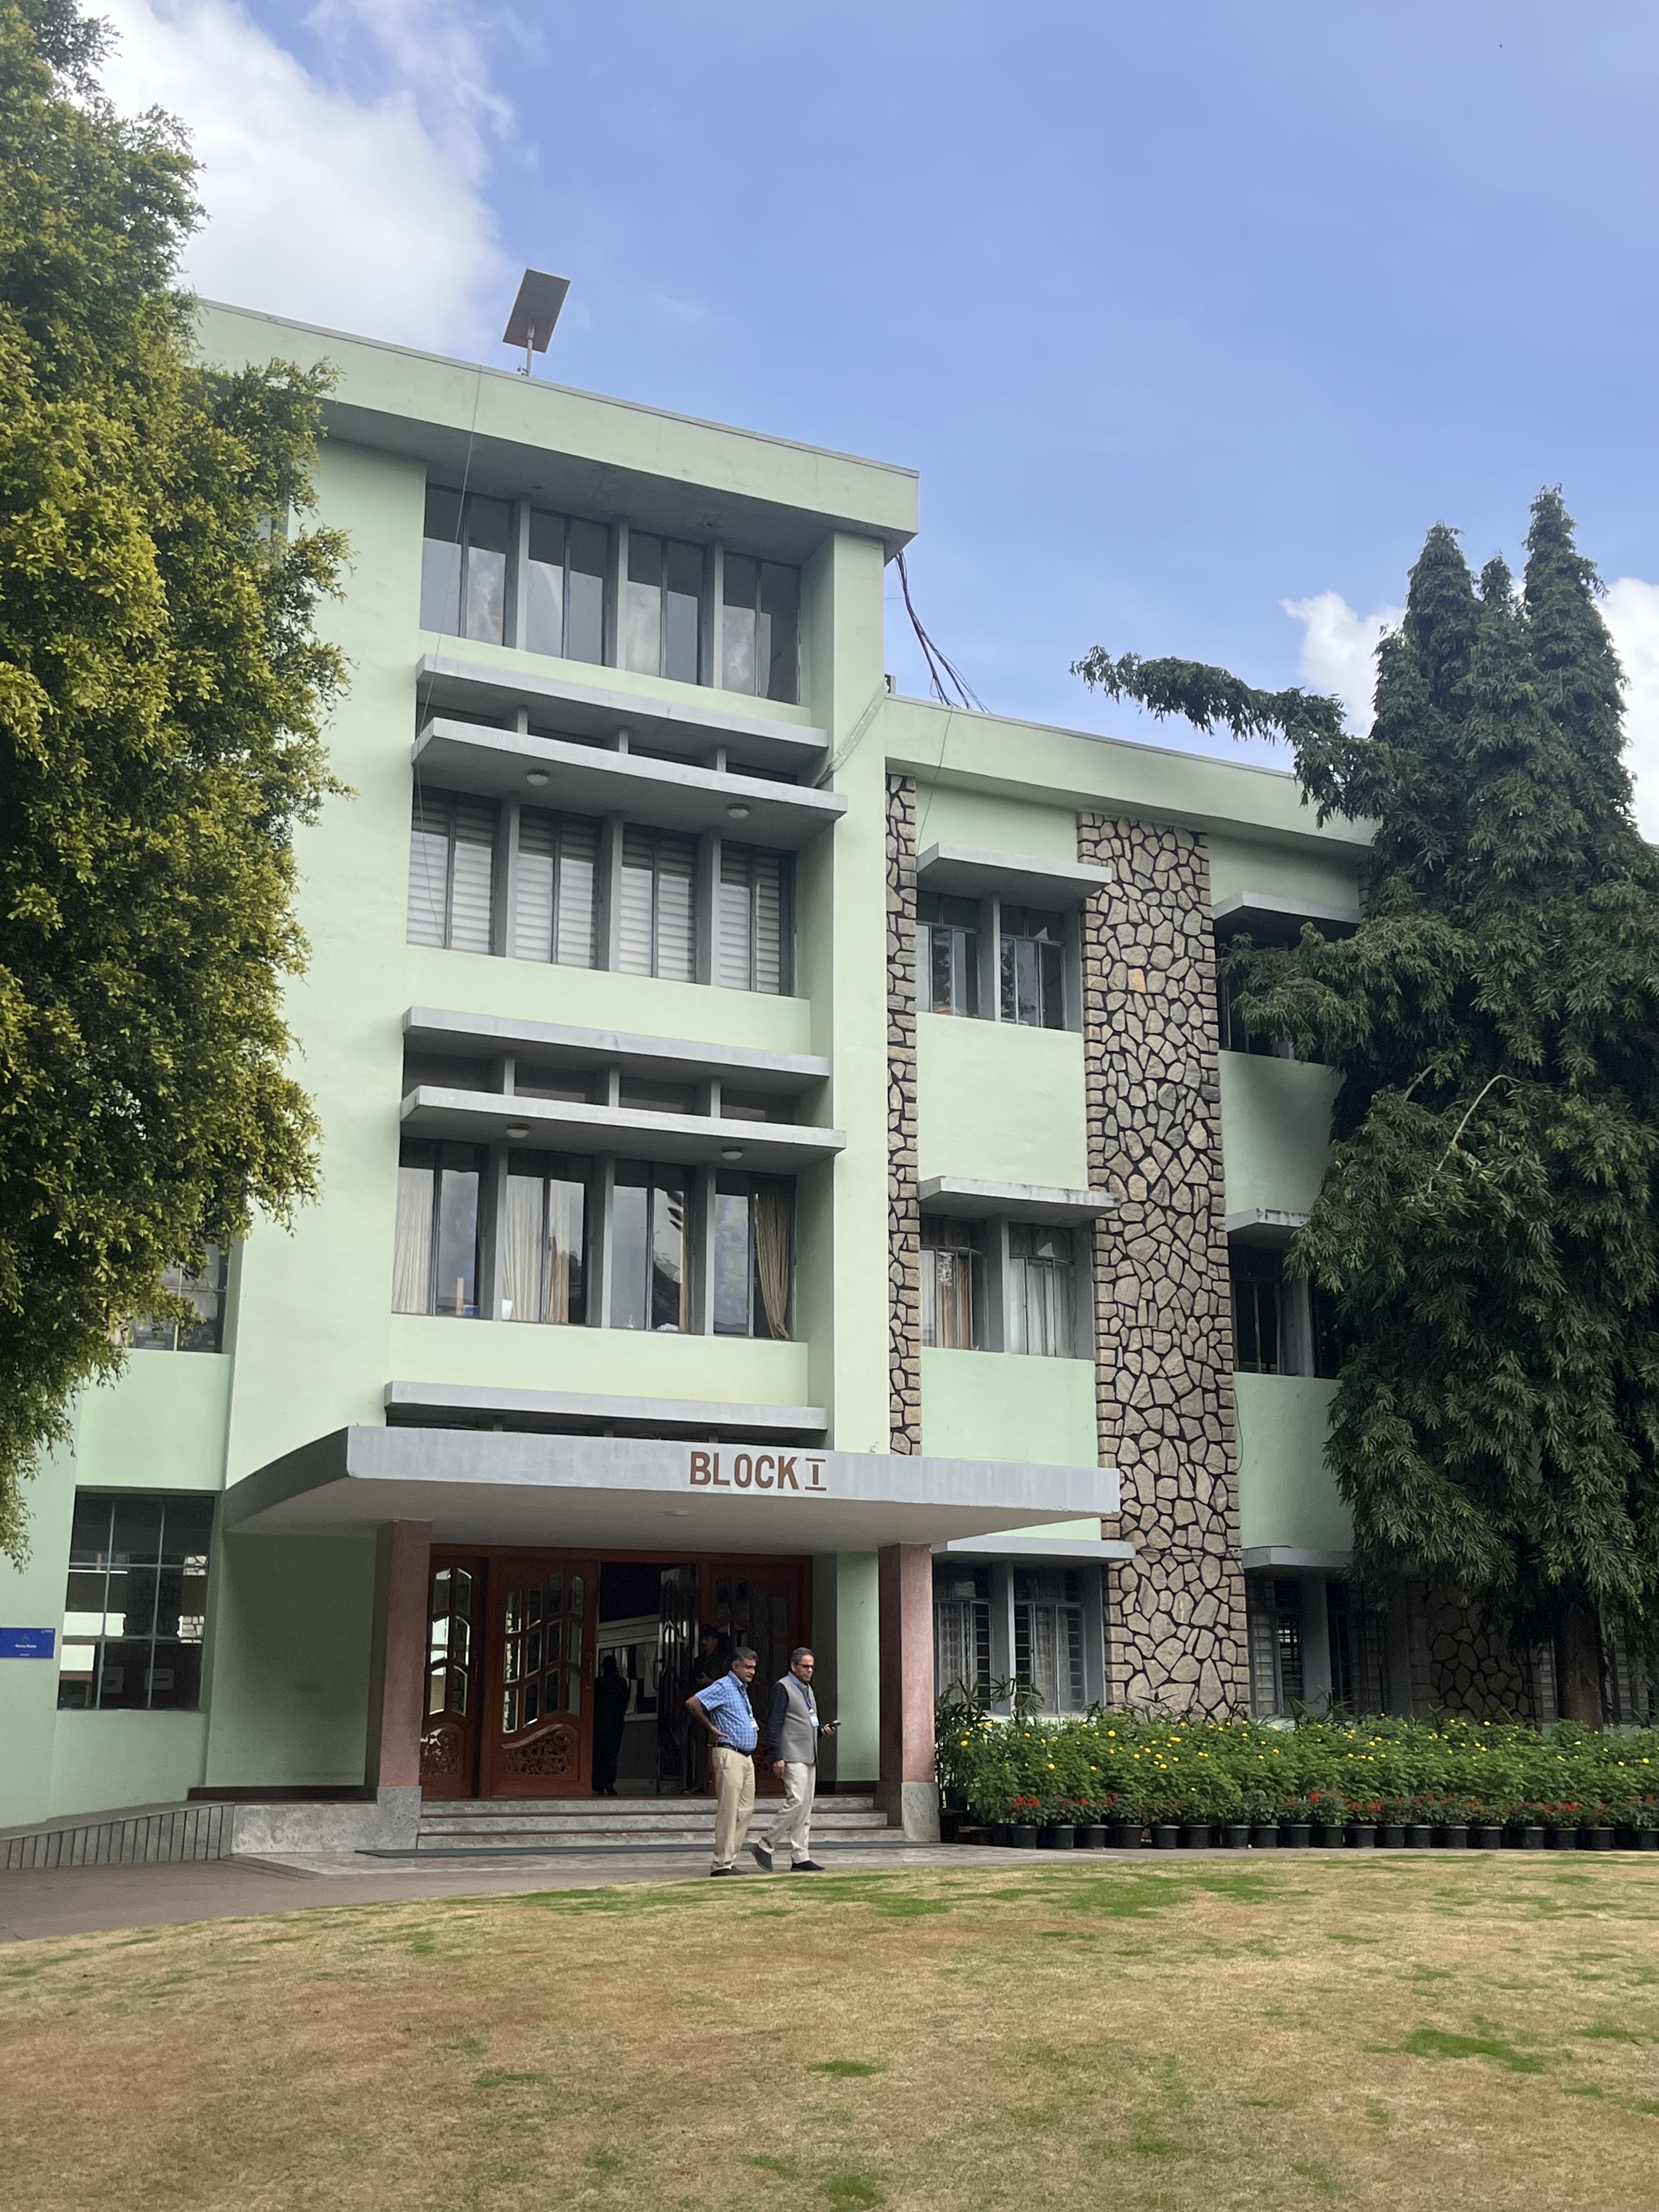Block 1: (296, 228, 1377, 1726)
